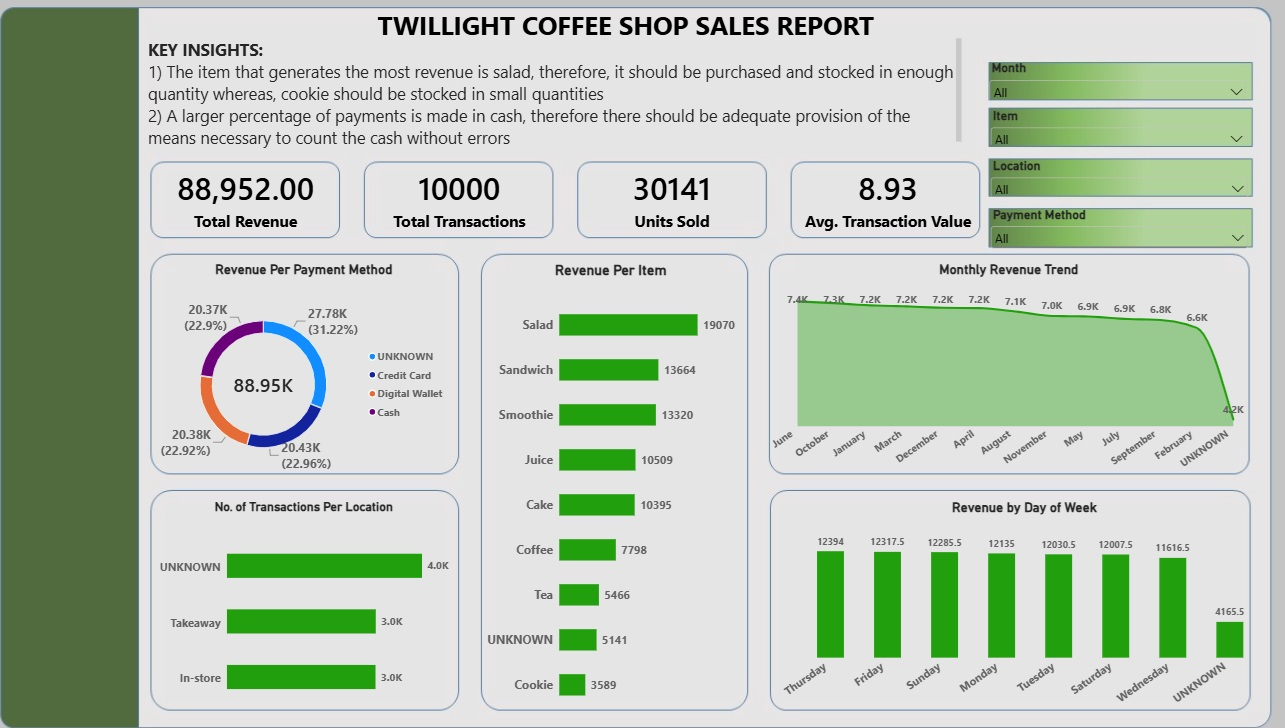

This screenshot's page, from the dashboard's own definition file:
{"tool":"powerbi","page":{"name":"Page 1","canvas":[1920,1080],"ordinal":0},"visuals":[{"type":"card","fields":{"Values":["Sum(Sheet1.Total Spent)"]},"box":[263.5,232.6,284,129.7],"z":0},{"type":"card","fields":{"Values":["CountNonNull(Sheet1.Transaction ID)"]},"box":[574.3,232.6,284,129.7],"z":1},{"type":"card","fields":{"Values":["Sum(Sheet1.Quantity)"]},"box":[881,232.6,284,129.7],"z":2},{"type":"card","fields":{"Values":["Avg(Sheet1.Total Spent)"]},"box":[1193.8,232.6,284,129.7],"z":3},{"type":"barChart","title":"Revenue Per Item","fields":{"Category":["Sheet1.Item"],"Y":["Sum(Sheet1.Total Spent)"]},"box":[738.9,376.7,393.1,685.4],"z":4},{"type":"areaChart","title":"Monthly Revenue Trend","fields":{"Category":["Sheet1.Month"],"Y":["Sum(Sheet1.Total Spent)"]},"box":[1149.1,376.4,723.9,343.8],"z":5},{"type":"columnChart","title":"Revenue by Day of Week","fields":{"Category":["Sheet1.Day of Week"],"Y":["Sum(Sheet1.Total Spent)"]},"box":[1165.4,720.2,736.5,342],"z":6},{"type":"donutChart","title":"Revenue Per Payment Method","fields":{"Category":["Sheet1.Payment Method"],"Y":["Sum(Sheet1.Total Spent)"]},"box":[264.2,376.4,452.4,343.8],"z":7},{"type":"clusteredBarChart","title":"No. of Transactions Per Location","fields":{"Category":["Sheet1.Location"],"Y":["CountNonNull(Sheet1.Transaction ID)"]},"box":[264.2,720.2,452.4,342],"z":8},{"type":"slicer","fields":{"Values":["Sheet1.Month"]},"box":[1478.5,99.5,381.8,56.1],"z":9},{"type":"slicer","fields":{"Values":["Sheet1.Item"]},"box":[1480.3,168.3,380,52.5],"z":10},{"type":"slicer","fields":{"Values":["Sheet1.Location"]},"box":[1480.3,240.7,381.8,56.1],"z":11},{"type":"slicer","fields":{"Values":["Sheet1.Payment Method"]},"box":[1480.3,311.3,381.8,65.1],"z":12},{"type":"textbox","box":[597.2,21.7,881.3,90.5],"z":13}]}

Visuals, with their boxes in screenshot pixels (x1, y1, x2, y2), scaled from the page's 1920x1080 canvas onto the 1285x728 screenshot:
card - Sum(Sheet1.Total Spent): 176 157 366 244
card - CountNonNull(Sheet1.Transaction ID): 384 157 574 244
card - Sum(Sheet1.Quantity): 590 157 780 244
card - Avg(Sheet1.Total Spent): 799 157 989 244
"Revenue Per Item" barChart: 495 254 758 716
"Monthly Revenue Trend" areaChart: 769 254 1254 485
"Revenue by Day of Week" columnChart: 780 485 1273 716
"Revenue Per Payment Method" donutChart: 177 254 480 485
"No. of Transactions Per Location" clusteredBarChart: 177 485 480 716
slicer - Sheet1.Month: 990 67 1245 105
slicer - Sheet1.Item: 991 113 1245 149
slicer - Sheet1.Location: 991 162 1246 200
slicer - Sheet1.Payment Method: 991 210 1246 254
textbox: 400 15 990 76
